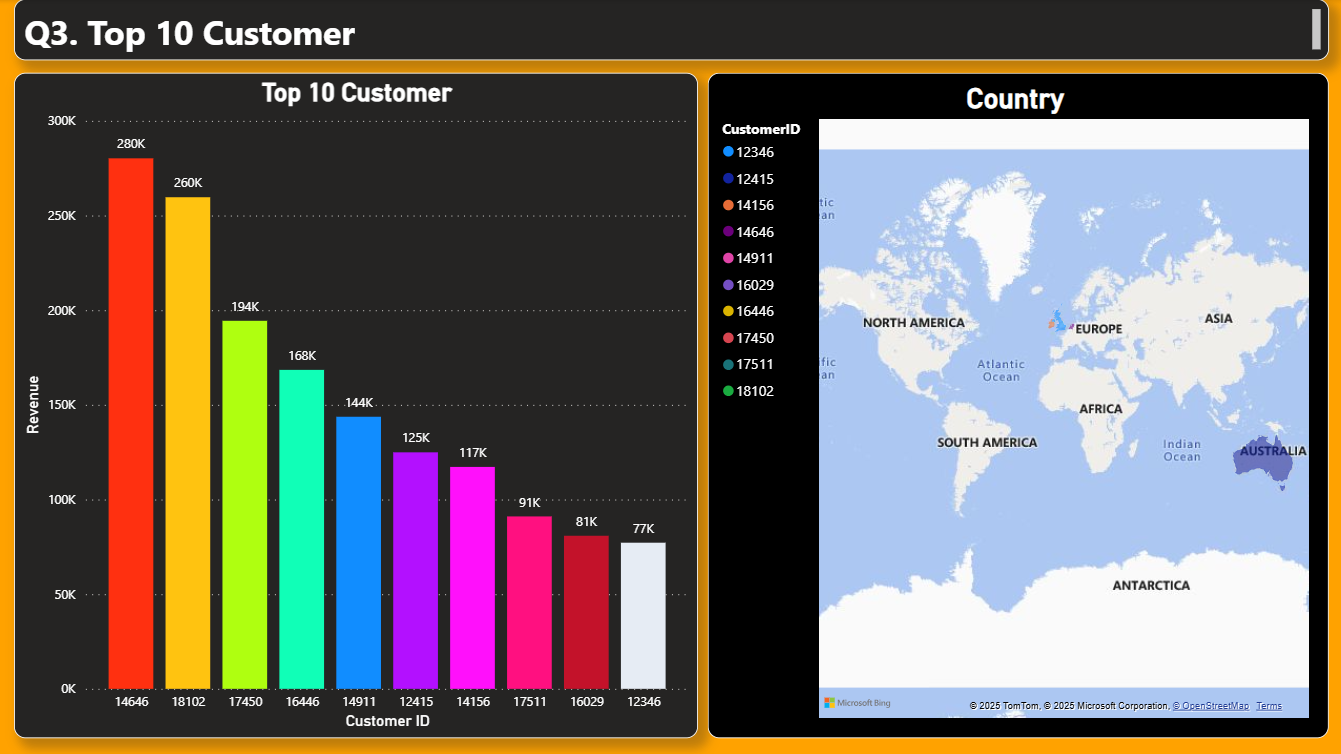

This screenshot's page, from the dashboard's own definition file:
{"tool":"powerbi","page":{"name":"Question 3","canvas":[1280,720],"ordinal":3},"visuals":[{"type":"textbox","box":[14.3,0,1252,58.3],"z":0},{"type":"columnChart","title":"Top 10 Customer","fields":{"Category":["top_10_customer.CustomerID"],"Y":["Sum(top_10_customer.Revenue_per_customer)"]},"box":[13.8,70,651.2,633.8],"z":1000},{"type":"filledMap","title":"Country","fields":{"Category":["top_10_customer.Country"],"Series":["top_10_customer.CustomerID"]},"box":[675,70,591.2,633.8],"z":2000}]}

Visuals, with their boxes in screenshot pixels (x1, y1, x2, y2), scaled from the page's 1280x720 canvas onto the 1341x754 screenshot:
textbox: select_region(15, 0, 1327, 61)
"Top 10 Customer" columnChart: select_region(14, 73, 697, 737)
"Country" filledMap: select_region(707, 73, 1327, 737)
